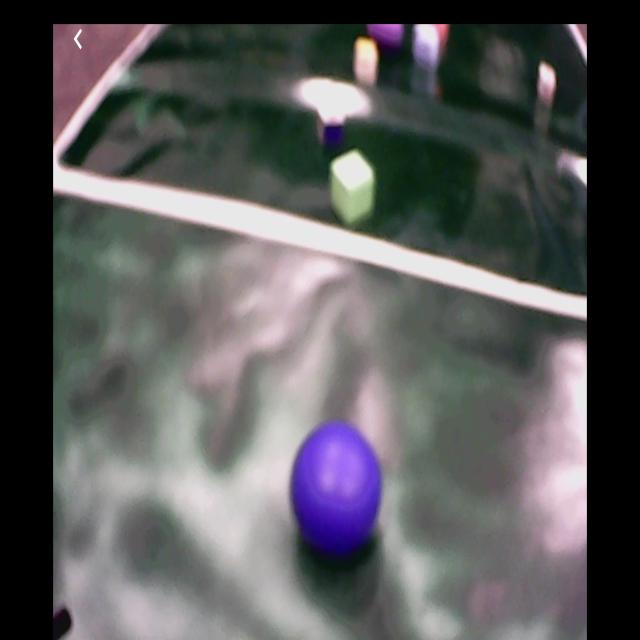ball: (292, 419, 382, 555), (367, 25, 406, 51)
